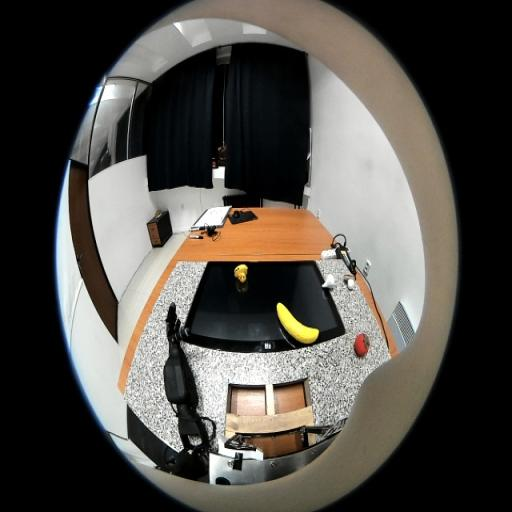Banana: (276, 301, 320, 344)
Duck: (234, 264, 248, 283)
LeftHand: (166, 323, 180, 347)
Mushroom: (344, 273, 357, 291)
Onion: (321, 274, 335, 288)
Tomato: (354, 333, 370, 358)
